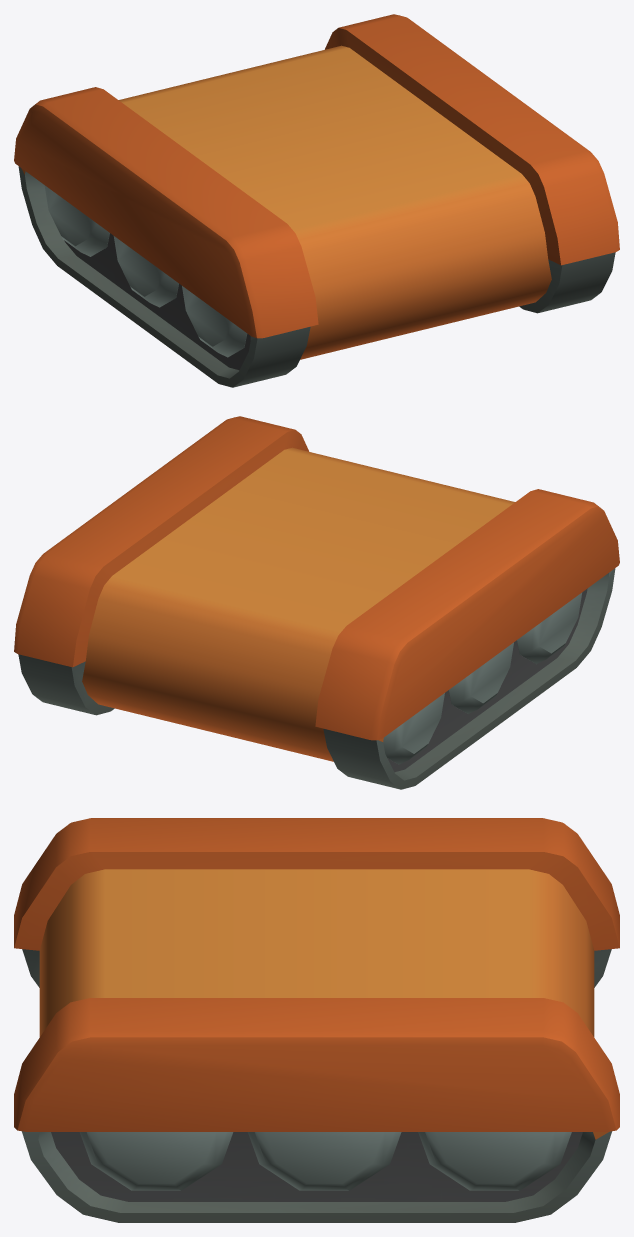
3 renders of one model, top to bottom at view 1: azimuth 30°, elevation 25°; view 2: azimuth 150°, elevation 25°; view 3: azimuth 270°, elevation 25°, orthographic. The views are drawn at different scales.
Parts seen in each view (by area): view 1: Base; view 2: Base; view 3: Base.
Boxes of the visible parts, x1=… form: Base: x1=14, y1=14, x2=619, y2=387; Base: x1=14, y1=416, x2=619, y2=789; Base: x1=14, y1=818, x2=619, y2=1222.
Size of the model in its own units: 0.4717 by 0.188 by 0.543.
